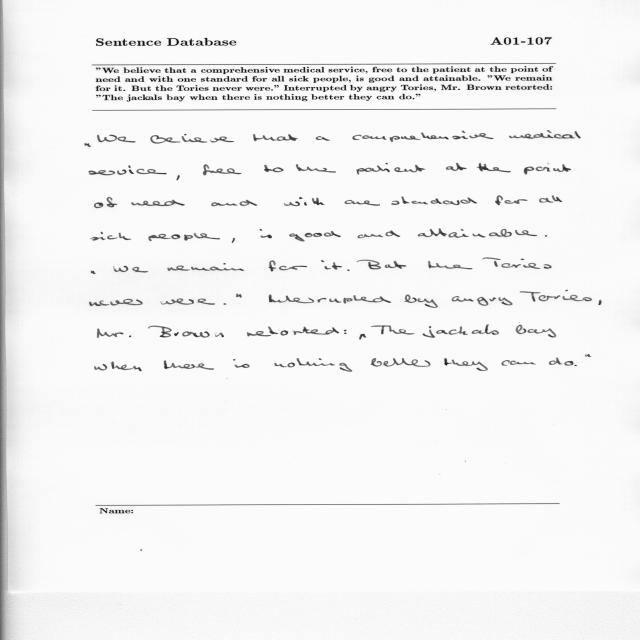word: (353, 131, 494, 142), (269, 295, 391, 304), (275, 358, 353, 372), (418, 229, 537, 238), (423, 324, 499, 338), (247, 327, 339, 337), (148, 326, 224, 338), (520, 290, 592, 302), (150, 134, 234, 144), (357, 163, 426, 175), (391, 196, 477, 205), (89, 166, 166, 176), (483, 258, 552, 269), (509, 130, 581, 139), (168, 263, 245, 271), (452, 296, 512, 306), (149, 233, 221, 241), (289, 231, 341, 242), (444, 358, 488, 371), (371, 358, 430, 367), (516, 325, 556, 338), (164, 360, 214, 370), (357, 260, 406, 270), (404, 294, 438, 308), (524, 165, 571, 175), (95, 362, 142, 372), (203, 164, 242, 176), (269, 260, 307, 272), (371, 326, 414, 335), (89, 299, 143, 306), (161, 298, 215, 305), (284, 197, 325, 206), (296, 164, 336, 173), (91, 232, 131, 241), (428, 261, 472, 269), (97, 329, 131, 339), (358, 231, 400, 239), (131, 200, 185, 206), (253, 134, 298, 141), (97, 135, 136, 143), (477, 163, 511, 172), (495, 196, 528, 205), (212, 200, 258, 206), (95, 197, 118, 208), (113, 266, 148, 273), (345, 200, 380, 206), (321, 260, 342, 270), (501, 360, 536, 366), (549, 358, 573, 366), (446, 163, 467, 171), (539, 196, 562, 203), (233, 359, 250, 368), (264, 165, 284, 172), (259, 229, 272, 238), (316, 136, 330, 141), (359, 334, 366, 340), (236, 294, 242, 298), (176, 175, 180, 180), (85, 143, 91, 146), (585, 354, 591, 357), (232, 238, 235, 243), (599, 300, 602, 305), (92, 271, 96, 274), (344, 330, 347, 334), (347, 269, 350, 271), (224, 303, 227, 305), (545, 235, 547, 237), (574, 365, 577, 366)
